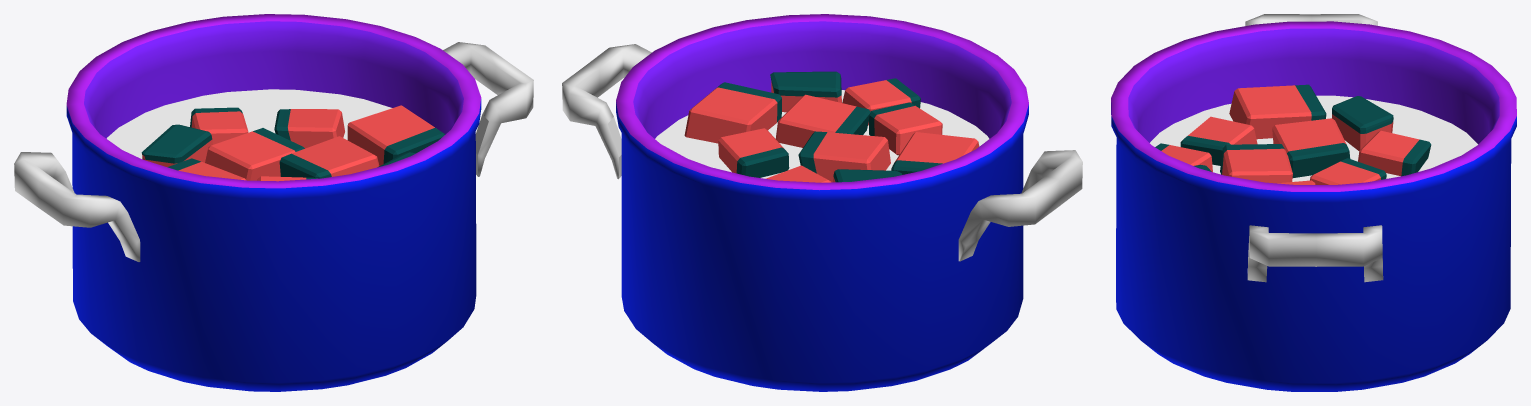
Rendered from cooked_xlb_soup.fbx.
3 views of the same model, side by side, from view 1: azimuth 30°, elevation 25°; view 2: azimuth 150°, elevation 25°; view 3: azimuth 270°, elevation 25° (orthographic).
Parts seen in each view (by area): view 1: Cylinder, Cylinder.003, Meat - Chopped.001, Meat - Chopped.002, Pumpkin; view 2: Cylinder, Meat - Chopped.001, Cylinder.003, Meat - Chopped.002, Pumpkin; view 3: Cylinder, Meat - Chopped.002, Cylinder.003, Pumpkin, Meat - Chopped.001.
Part boxes in pixels (x1,y1,x2,y2): Cylinder: [66, 14, 481, 391]; Cylinder.003: [14, 42, 533, 261]; Meat - Chopped.001: [274, 105, 445, 178]; Meat - Chopped.002: [141, 107, 317, 181]; Pumpkin: [106, 89, 392, 158]; Cylinder: [616, 14, 1028, 391]; Meat - Chopped.001: [684, 71, 920, 177]; Cylinder.003: [562, 44, 1082, 261]; Meat - Chopped.002: [766, 102, 979, 182]; Pumpkin: [655, 90, 989, 178]; Cylinder: [1111, 21, 1516, 391]; Meat - Chopped.002: [1180, 84, 1431, 177]; Cylinder.003: [1245, 14, 1383, 282]; Pumpkin: [1150, 95, 1478, 181]; Meat - Chopped.001: [1155, 143, 1386, 184].
Size of the model in its own units: 83.51 by 36.24 by 63.
